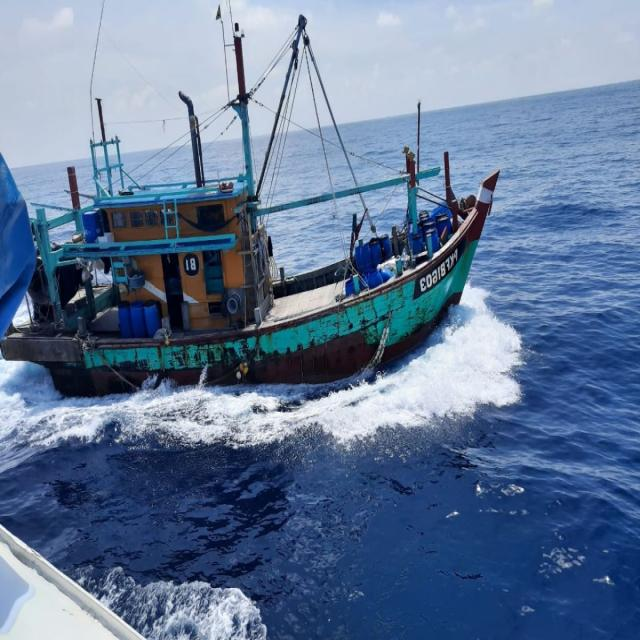Fishing Boat: (0, 75, 523, 413)
